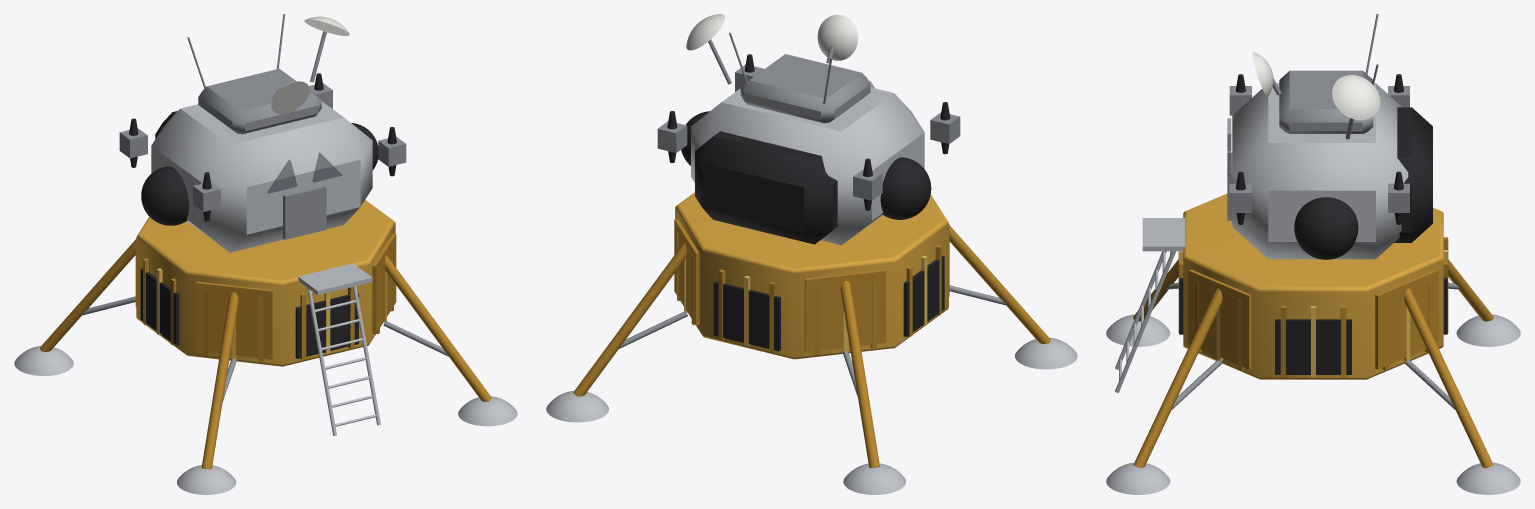
The picture shows the model from 3 angles, left to right: view 1: azimuth 30°, elevation 25°; view 2: azimuth 150°, elevation 25°; view 3: azimuth 270°, elevation 25°; orthographic projection. The views are drawn at different scales.
Parts seen in each view (by area): view 1: Ascent, Descent, AscentTop, Panel_7, Panel_0, Tank_-1, Hatch, Leg_2, Leg_3, Panel_6, Panel_1, Leg_1 (+10 smaller); view 2: Descent, Ascent, AscentBack, AscentTop, Panel_5, Panel_4, Tank_-1, Leg_1, Leg_0, Panel_6, Leg_2, Panel_3 (+8 smaller); view 3: Descent, Ascent, AscentTop, AscentBack, Panel_1, Panel_3, Panel_2, Tank_1, Leg_0, Leg_3, SbandDish, Pad_0 (+12 smaller).
Part boxes in pixels (bbox=[...]): Ascent: bbox=[151, 101, 372, 252]; Descent: bbox=[136, 200, 395, 366]; AscentTop: bbox=[198, 68, 321, 134]; Panel_7: bbox=[195, 281, 272, 359]; Panel_0: bbox=[295, 293, 358, 358]; Tank_-1: bbox=[141, 166, 188, 225]; Hatch: bbox=[283, 185, 326, 239]; Leg_2: bbox=[201, 292, 238, 469]; Leg_3: bbox=[384, 255, 491, 401]; Panel_6: bbox=[140, 268, 179, 345]; Panel_1: bbox=[372, 233, 396, 334]; Leg_1: bbox=[40, 240, 135, 351]; Descent: bbox=[675, 192, 948, 359]; Ascent: bbox=[691, 87, 924, 245]; AscentBack: bbox=[695, 131, 838, 244]; AscentTop: bbox=[740, 54, 870, 123]; Panel_5: bbox=[804, 269, 886, 351]; Panel_4: bbox=[713, 281, 780, 351]; Tank_-1: bbox=[880, 157, 931, 219]; Leg_1: bbox=[840, 281, 879, 467]; Leg_0: bbox=[573, 241, 686, 396]; Panel_6: bbox=[903, 256, 944, 336]; Leg_2: bbox=[949, 225, 1050, 343]; Panel_3: bbox=[674, 219, 699, 325]; Descent: bbox=[1183, 194, 1443, 379]; Ascent: bbox=[1232, 83, 1408, 259]; AscentTop: bbox=[1279, 70, 1373, 133]; AscentBack: bbox=[1394, 107, 1432, 242]; Panel_1: bbox=[1188, 269, 1251, 369]; Panel_3: bbox=[1375, 269, 1438, 369]; Panel_2: bbox=[1275, 319, 1351, 374]; Tank_1: bbox=[1294, 197, 1358, 259]; Leg_0: bbox=[1404, 288, 1493, 468]; Leg_3: bbox=[1133, 288, 1222, 468]; SbandDish: bbox=[1332, 75, 1380, 120]; Pad_0: bbox=[1456, 462, 1520, 494].
Size of the model in its own units: 4.85 by 4.75 by 4.85.
